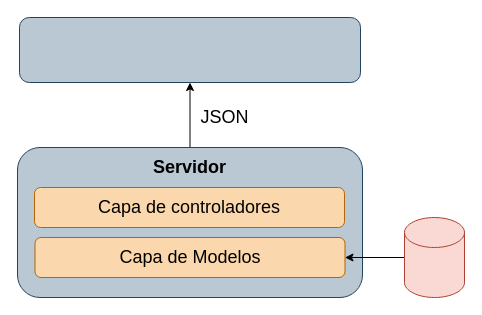
Image size: 482x315. Some labels were removed from this diagram. The shapes that lost their labels are listed below. From the top down, each one's box as (x1, y1, x2, y2) in pixels, then its label:
(18, 16, 360, 82): Cliente
(404, 216, 464, 298): DB
